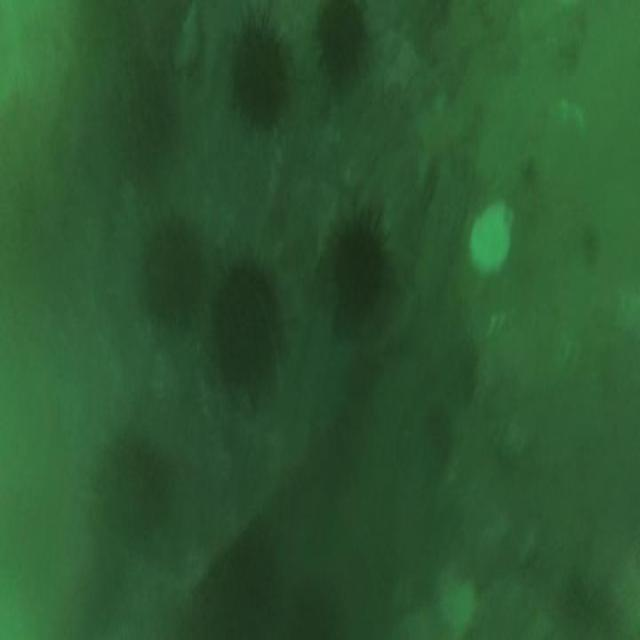echinus: (213, 267, 281, 387), (233, 20, 290, 126), (331, 224, 390, 326), (144, 226, 196, 322), (224, 529, 271, 634), (317, 0, 367, 87)
scallop: (470, 204, 514, 276)
